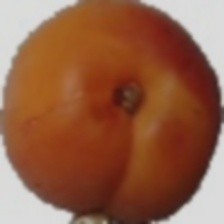apricot: (36, 22, 190, 165)
